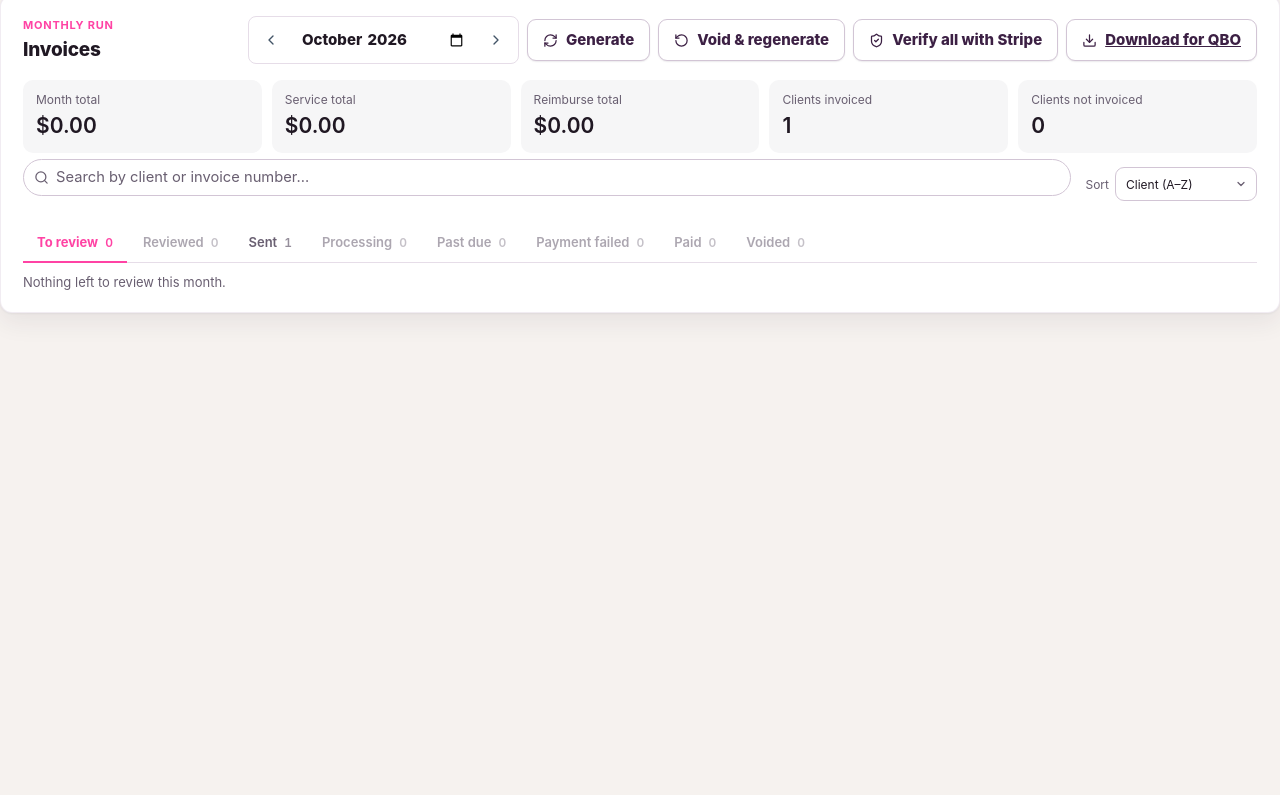
Test: the Payment link button › is not offered where there is nothing owed, even on a sent invoice
Click the tab "Sent 1": (270, 244) x1=234 y1=224 x2=306 y2=263
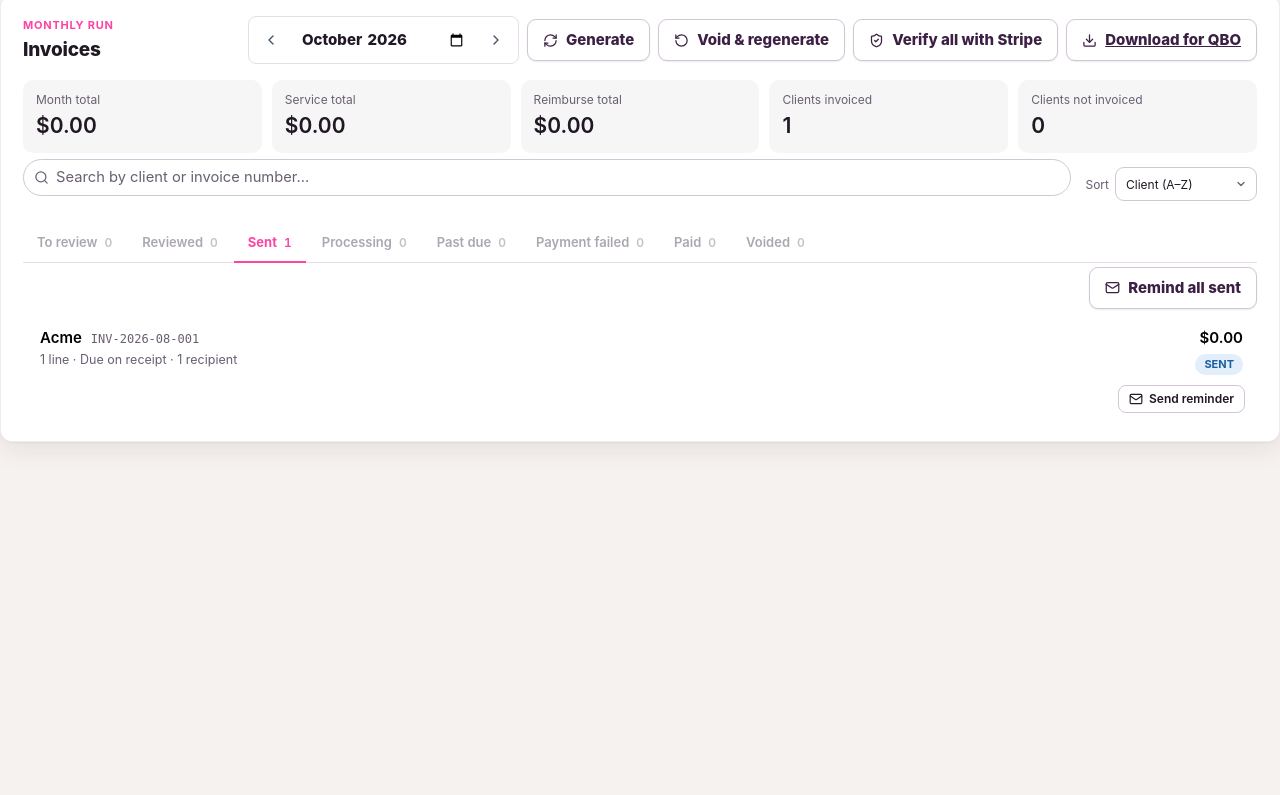
Click the text "INV-2026-08-001": (145, 340) x1=91 y1=331 x2=199 y2=348
(page scrolled)
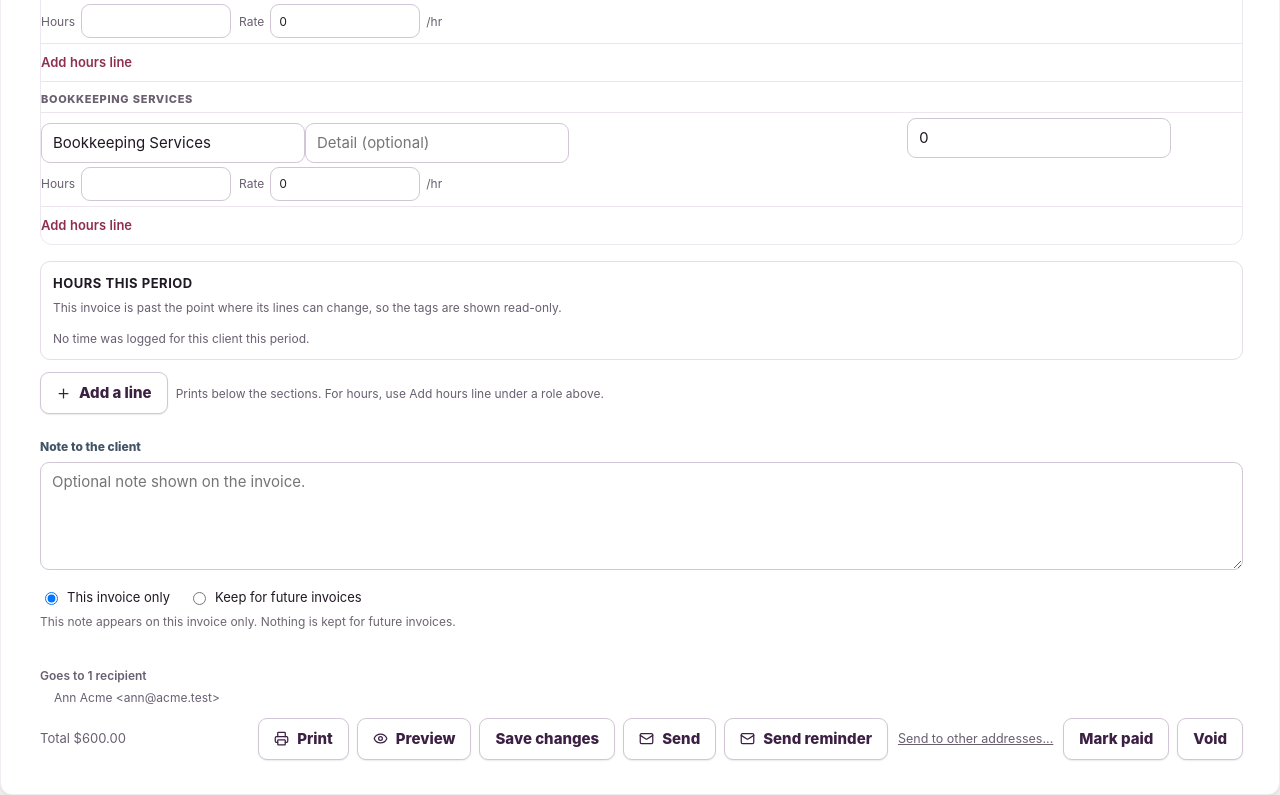
Expected: the button "Print" is shown, x1=258 y1=718 x2=349 y2=760
